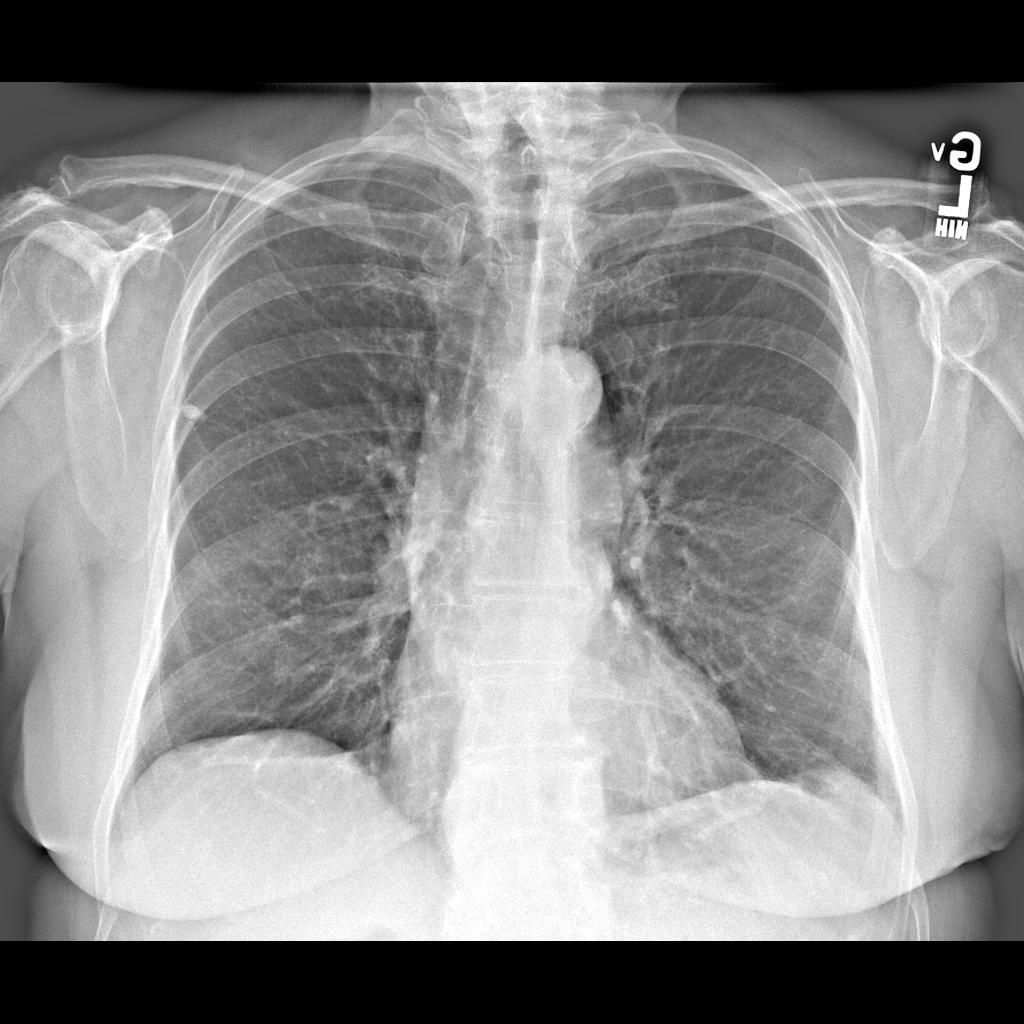Nodule: (173, 395, 208, 428)
